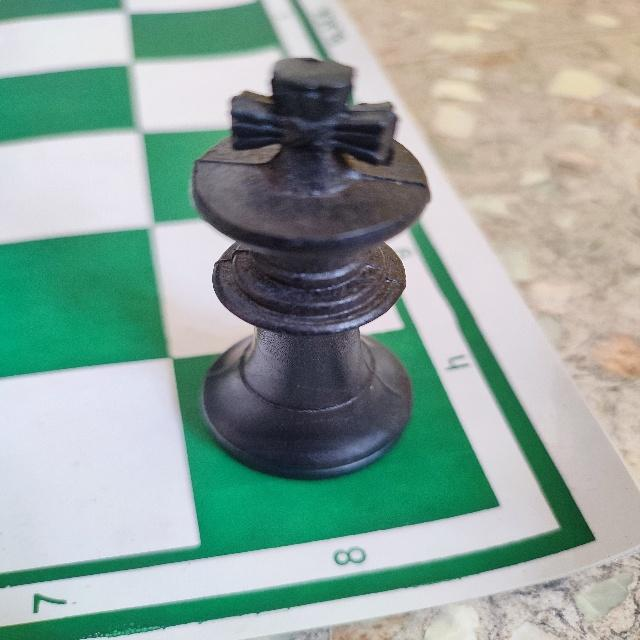King: (186, 57, 432, 481)
